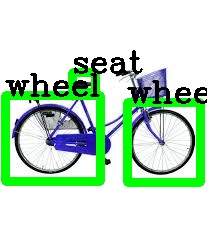seat: (72, 72, 95, 92)
wheel: (5, 95, 100, 181), (127, 102, 200, 182)
